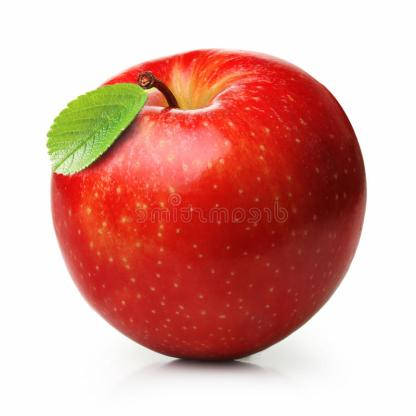apple: (48, 47, 370, 368)
